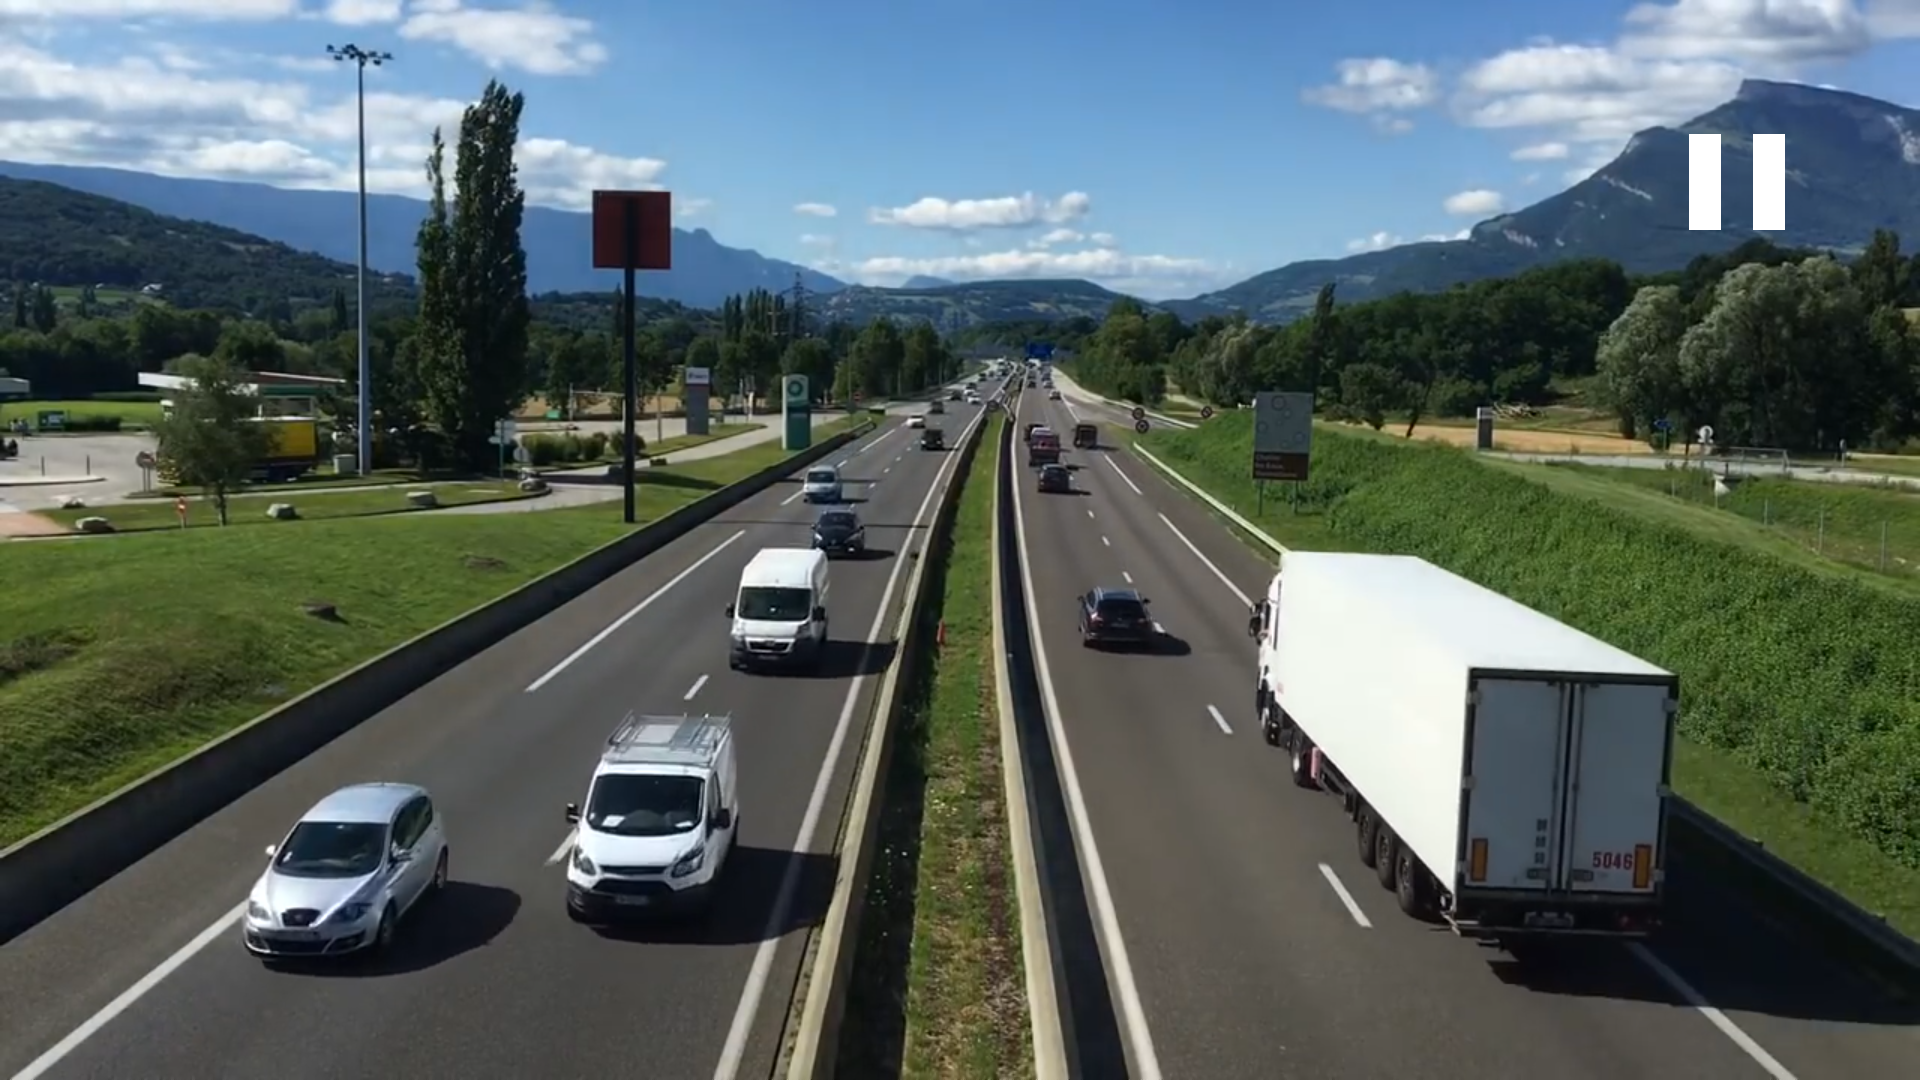HeavyVehicle: (1237, 541, 1689, 945)
LightVehicle: (241, 766, 458, 967), (566, 711, 742, 926), (720, 547, 835, 676), (1077, 582, 1160, 654), (800, 462, 848, 506), (1036, 463, 1079, 496)
